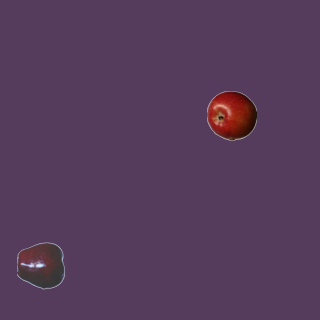Apple Braeburn: (206, 90, 256, 140)
Apple Red Delicious: (16, 240, 66, 290)
